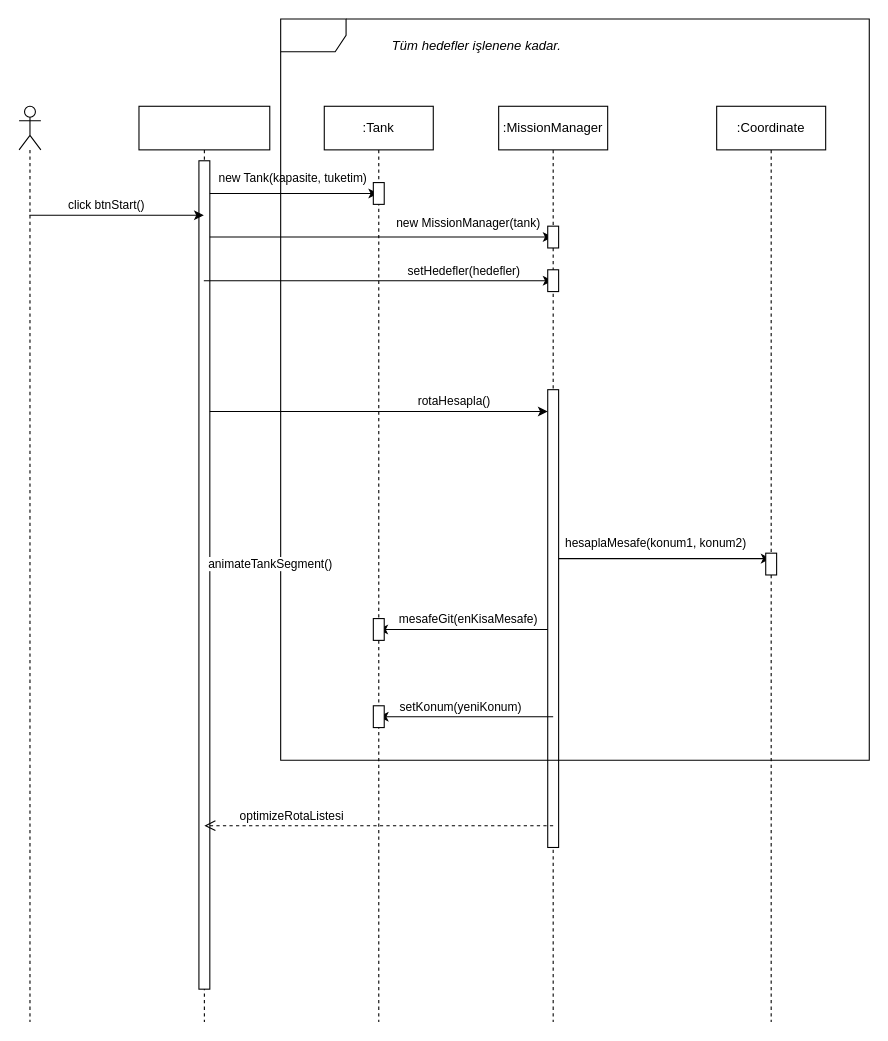
The diagram is 888 pixels wide and 1041 high, and some of its shapes have lost their labels. Each missing label, with the box of its shape:
:SimulationController: (138, 105, 270, 1022)
loop: (280, 18, 869, 760)
